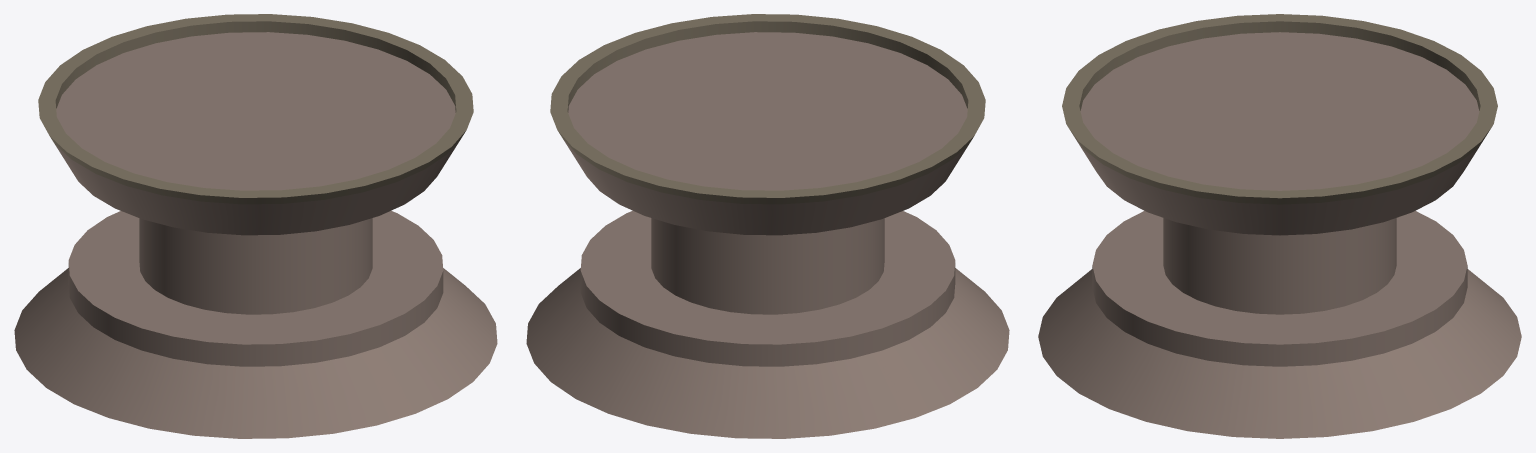
The model's file is grass_stage.fbx.
The picture shows the model from 3 angles, left to right: view 1: azimuth 30°, elevation 25°; view 2: azimuth 150°, elevation 25°; view 3: azimuth 270°, elevation 25°; orthographic projection.
Parts seen in each view (by area): view 1: GrassStage; view 2: GrassStage; view 3: GrassStage.
Boxes of the visible parts, bbox=[...] form: GrassStage: bbox=[14, 14, 497, 438]; GrassStage: bbox=[526, 14, 1009, 438]; GrassStage: bbox=[1038, 14, 1521, 438].
Bounding box in the file's own units: 200 × 105 × 200.
